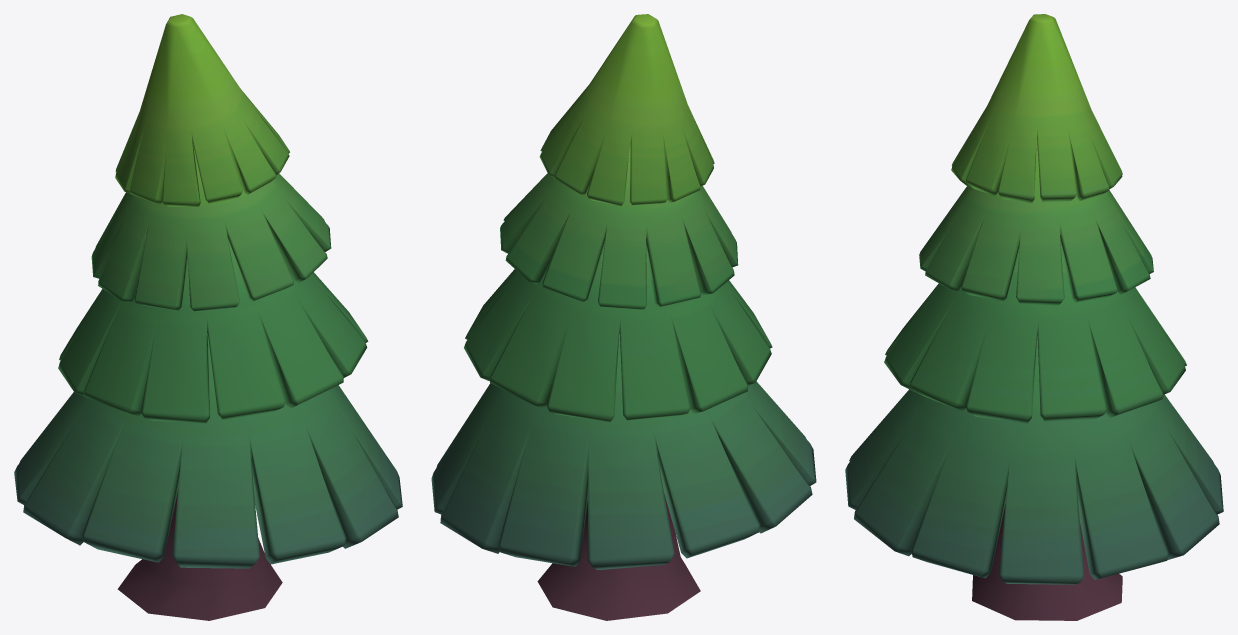
Rendered from Tree_10.fbx.
3 views of the same model, side by side, from view 1: azimuth 30°, elevation 25°; view 2: azimuth 150°, elevation 25°; view 3: azimuth 270°, elevation 25° (orthographic). The views are drawn at different scales.
Parts seen in each view (by area): view 1: Tree_10; view 2: Tree_10; view 3: Tree_10.
Part boxes in pixels (x1,y1,x2,y2): Tree_10: [14, 14, 402, 620]; Tree_10: [431, 14, 816, 620]; Tree_10: [845, 14, 1223, 620].
Size of the model in its own units: 232 by 378 by 230.
